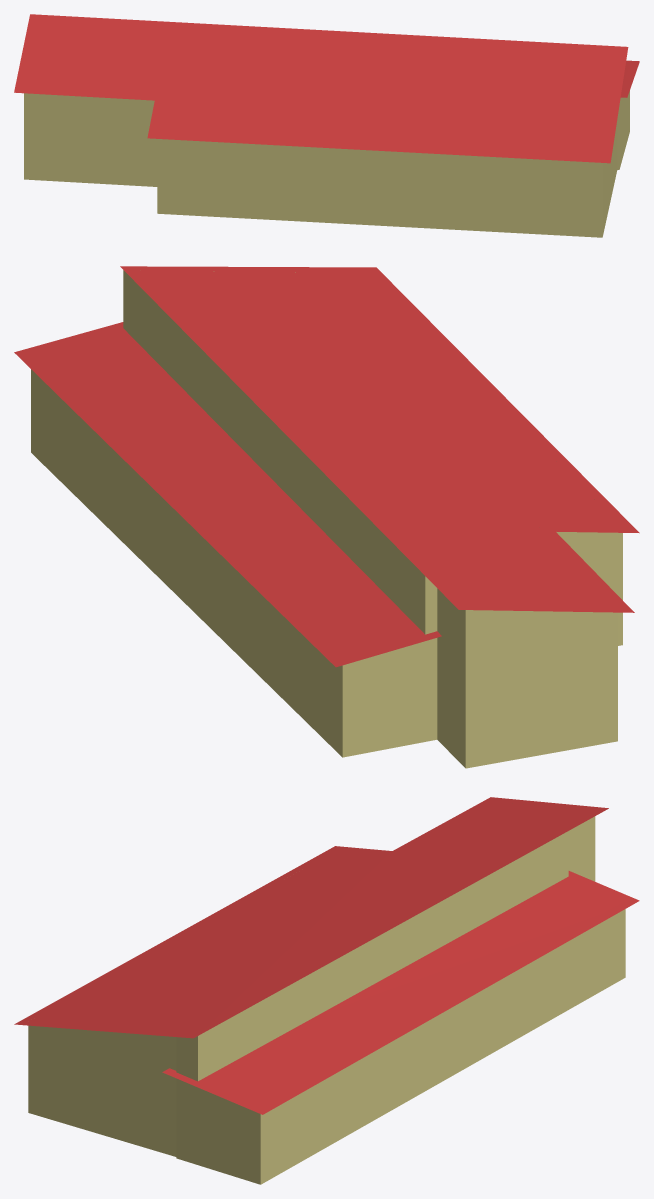
The picture shows the model from 3 angles, top to bottom: view 1: azimuth 30°, elevation 25°; view 2: azimuth 150°, elevation 25°; view 3: azimuth 270°, elevation 25°; orthographic projection. The views are drawn at different scales.
Size of the model in its own units: 51.03 by 46.33 by 10.54.
